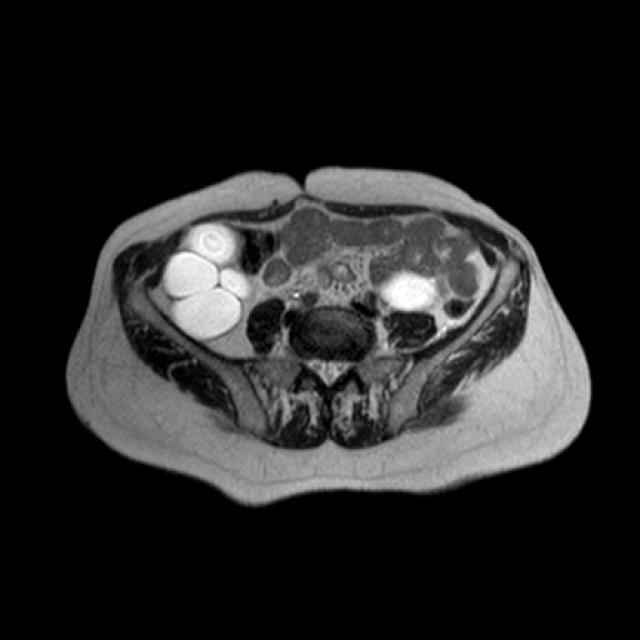sag: (161, 220, 254, 344)
sol: (382, 270, 440, 314)
